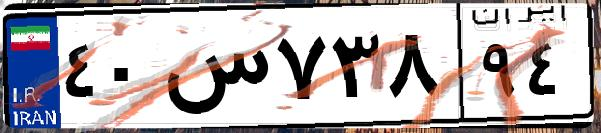0: (110, 28, 158, 98)
3: (330, 28, 385, 110)
4: (57, 26, 110, 100), (525, 38, 570, 115)
7: (270, 28, 330, 110)
8: (385, 28, 445, 110)
9: (475, 38, 525, 113)
س: (158, 20, 270, 120)
